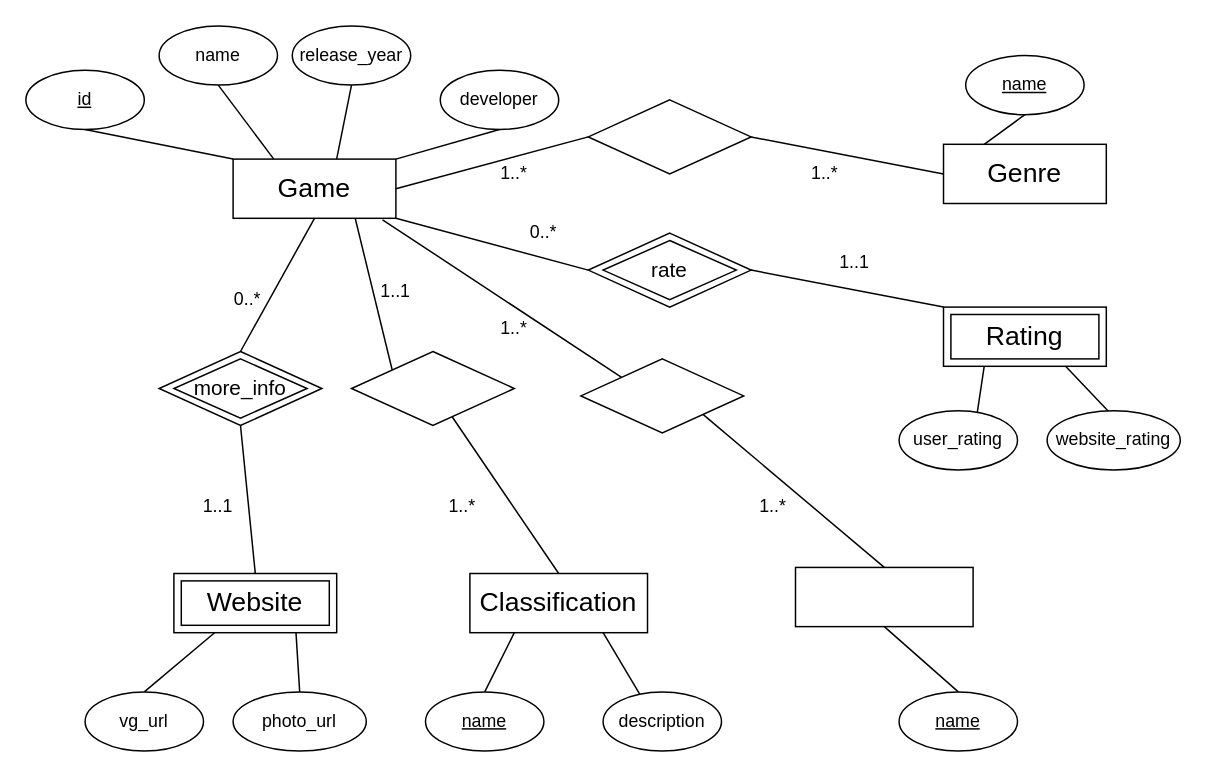
This 1206x777 diagram has some shape labels left out. Here are the shapes that lost their labels. From the top down, the centre of each, then its label:
At [669,136]: "belong".
At [432,388]: "classified".
At [661,395]: "release_at".
At [883,596]: "Platform".
